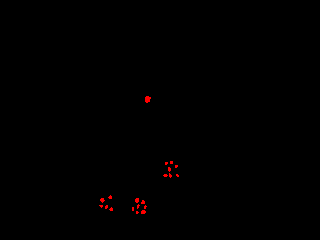Target: (145, 96, 151, 103), (100, 198, 105, 203), (135, 198, 139, 203), (141, 210, 146, 214), (108, 195, 112, 199), (141, 200, 145, 204), (109, 207, 113, 211), (168, 167, 171, 172), (169, 173, 172, 178), (163, 174, 168, 177), (137, 204, 140, 209), (99, 205, 103, 208), (105, 205, 108, 209), (144, 205, 147, 209), (170, 161, 173, 164), (165, 162, 168, 165), (175, 165, 178, 168), (176, 174, 179, 177), (136, 211, 139, 214), (132, 207, 134, 211)
